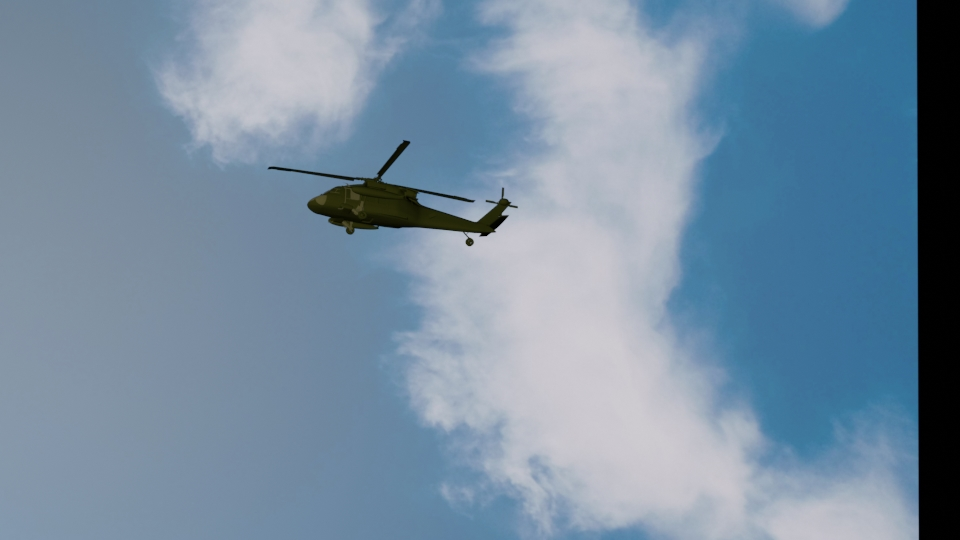heli: (306, 138, 518, 246)
